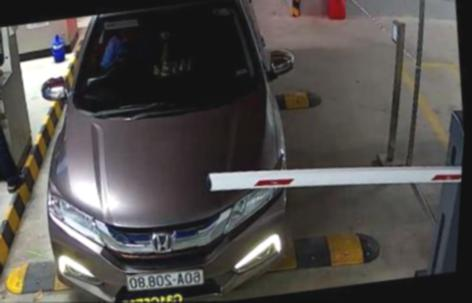License_Plate: (126, 262, 206, 292)
